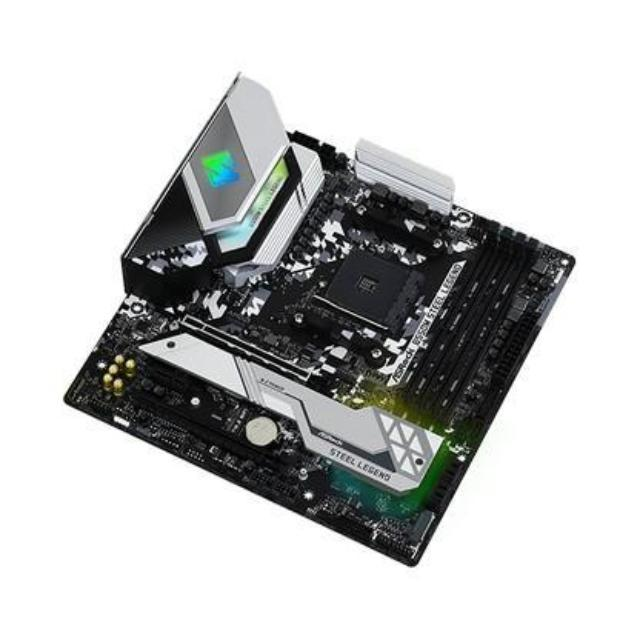Mainboard: (38, 65, 587, 577)
